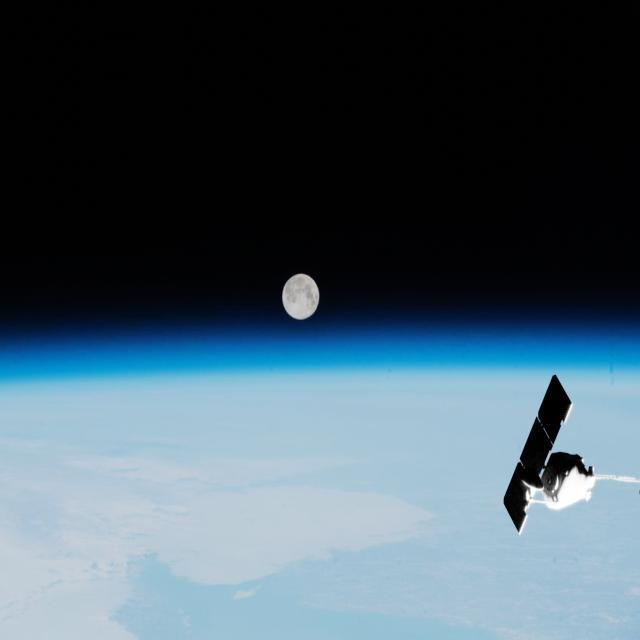satellite: (487, 363, 640, 542)
